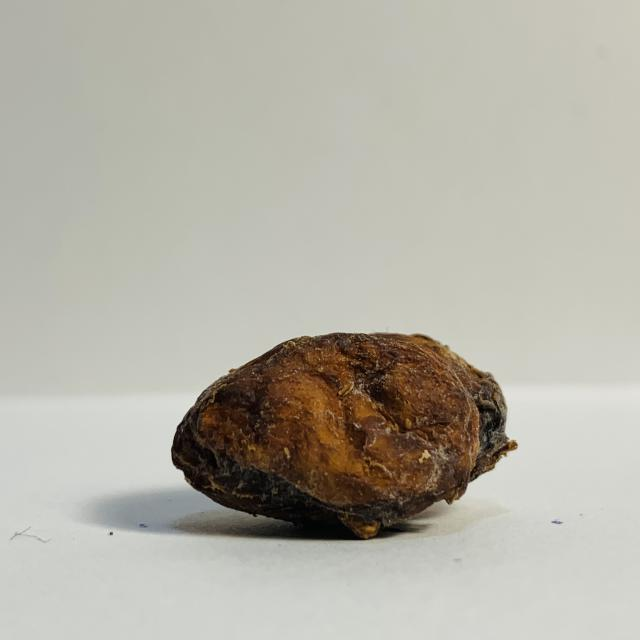Agglomerated_cocoabeans: (71, 299, 569, 570)
